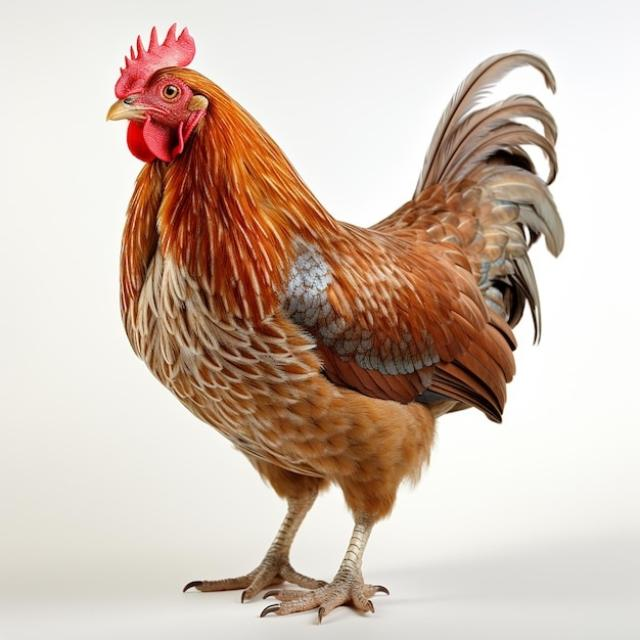Chicken: (109, 25, 565, 626)
